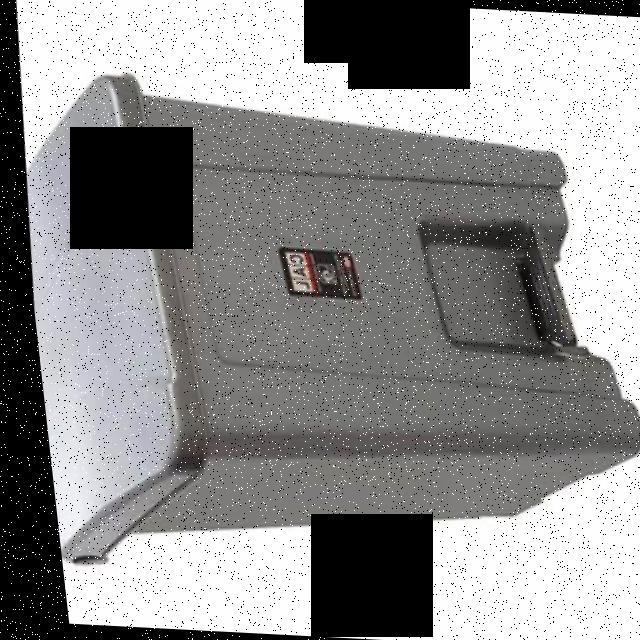bin: (5, 57, 640, 636)
